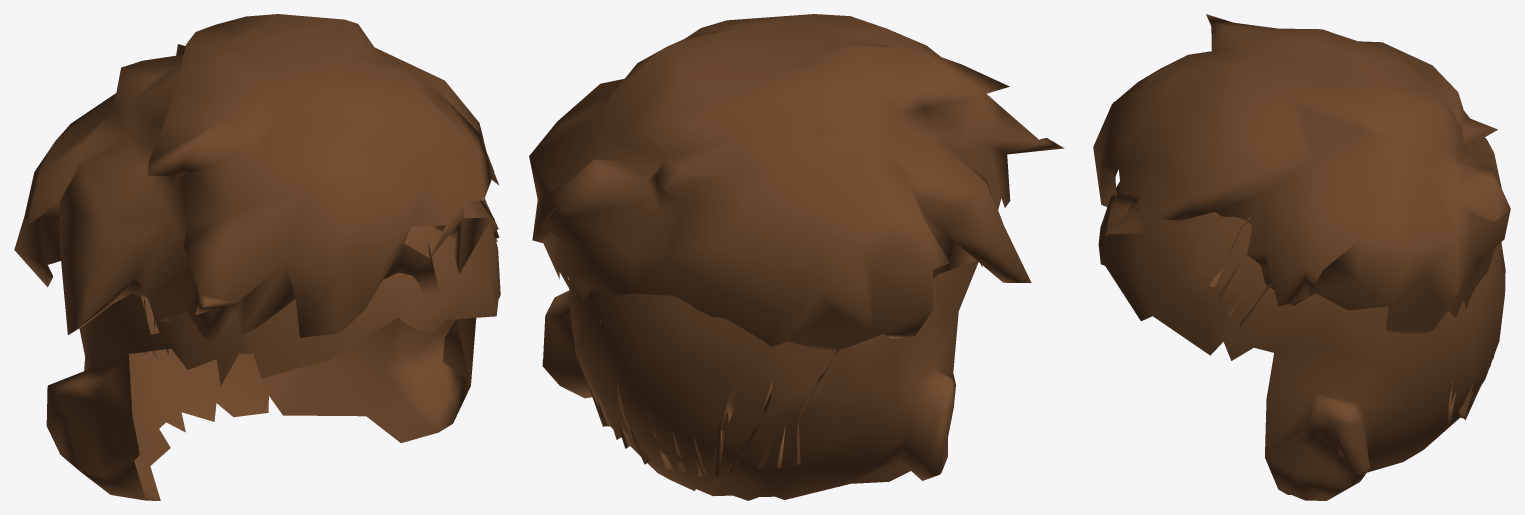
Rendered from short-fringe.glb.
3 views of the same model, side by side, from view 1: azimuth 30°, elevation 25°; view 2: azimuth 150°, elevation 25°; view 3: azimuth 270°, elevation 25° (orthographic). The views are drawn at different scales.
Visible parts, largest first — view 1: Hair, HairScalp, HairPulledRootStrands; view 2: Hair, HairScalp, HairPulledRootStrands; view 3: Hair, HairScalp, HairPulledRootStrands.
Boxes of the visible parts, box(x1,y1,x2,y2) form: Hair: box(14, 14, 499, 343); HairScalp: box(46, 200, 500, 500); HairPulledRootStrands: box(141, 198, 499, 358); Hair: box(529, 14, 1064, 349); HairScalp: box(542, 260, 982, 500); HairPulledRootStrands: box(568, 278, 839, 476); Hair: box(1093, 14, 1510, 336); HairScalp: box(1098, 181, 1505, 500); HairPulledRootStrands: box(1208, 215, 1494, 424).
Bounding box in the file's own units: 0.5022 × 0.4527 × 0.4507.
